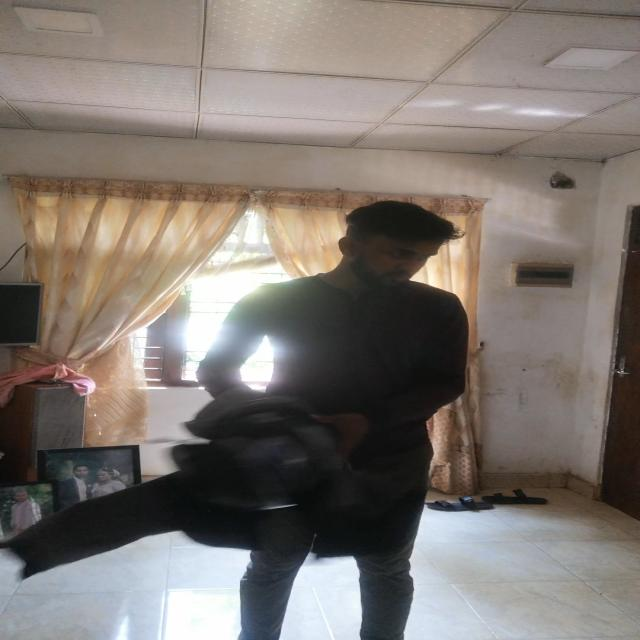Person: (194, 211, 504, 640)
